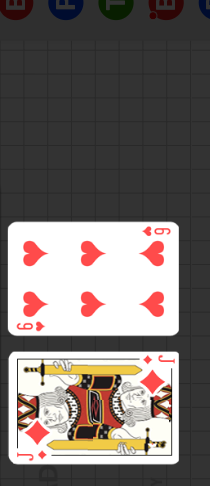6H: (140, 226, 172, 239)
JD: (15, 449, 49, 462)
